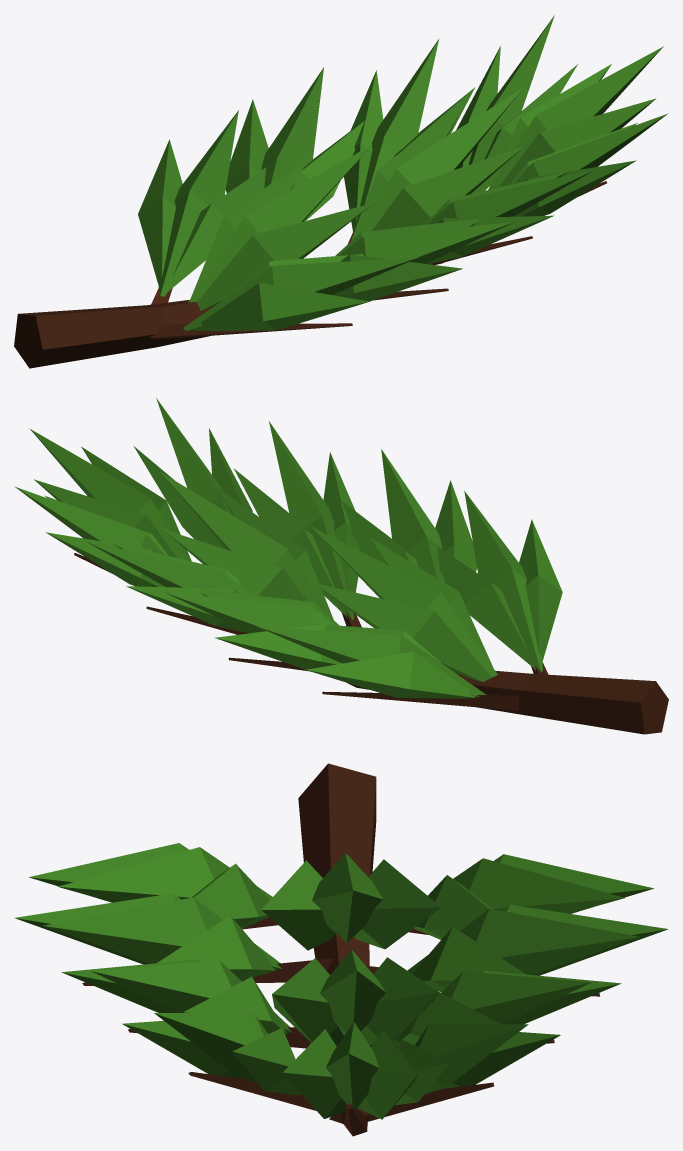
The model's file is N12_Pine_Bough.fbx.
The picture shows the model from 3 angles, top to bottom: view 1: azimuth 30°, elevation 25°; view 2: azimuth 150°, elevation 25°; view 3: azimuth 270°, elevation 25°; orthographic projection. The views are drawn at different scales.
Parts seen in each view (by area): view 1: N12_Pine_Bough; view 2: N12_Pine_Bough; view 3: N12_Pine_Bough.
Part boxes in pixels (x1,y1,x2,y2): N12_Pine_Bough: [14, 15, 668, 368]; N12_Pine_Bough: [14, 398, 668, 734]; N12_Pine_Bough: [15, 763, 668, 1136].
Size of the model in its own units: 1.41 by 0.3828 by 0.8646.
Materials: 2 (2 with a texture image).
